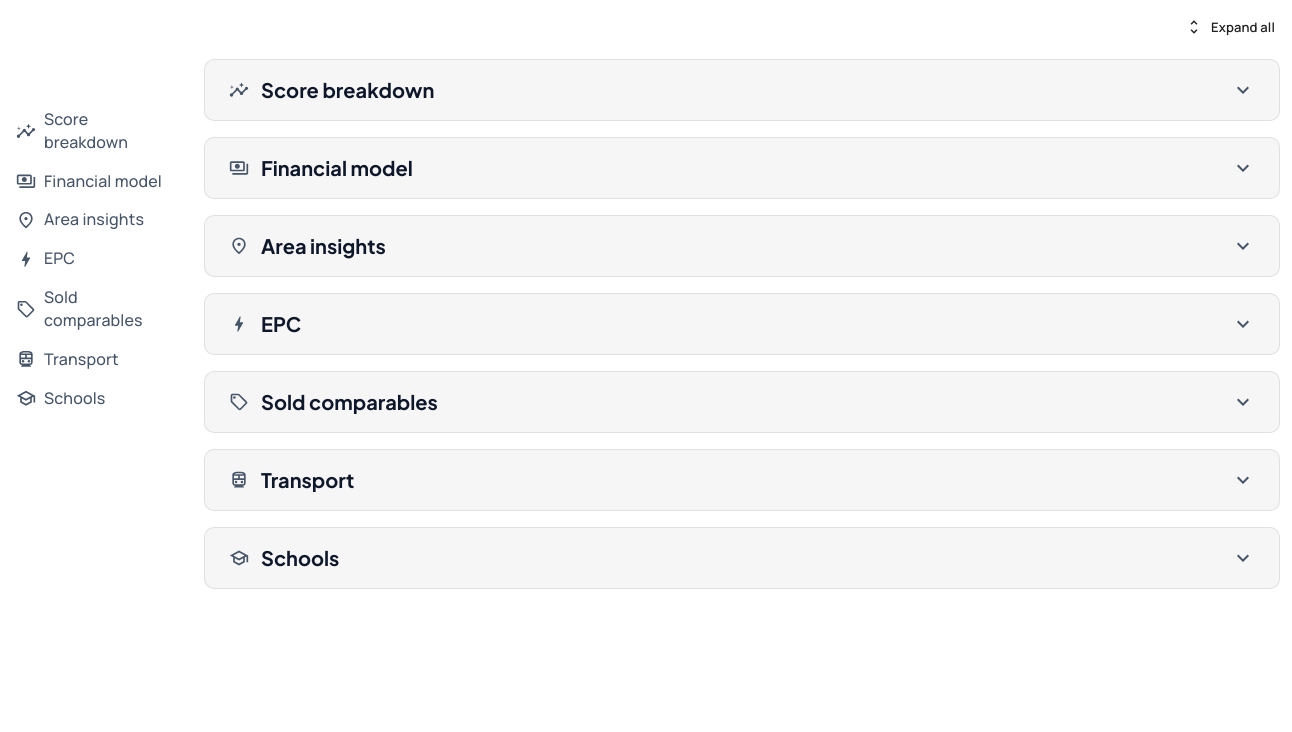
Test: DealReport › shows a muted placeholder when an always-run check returned nothing
Click the button "Transport" at (308, 479), box left=205, top=450, right=1279, bottom=510
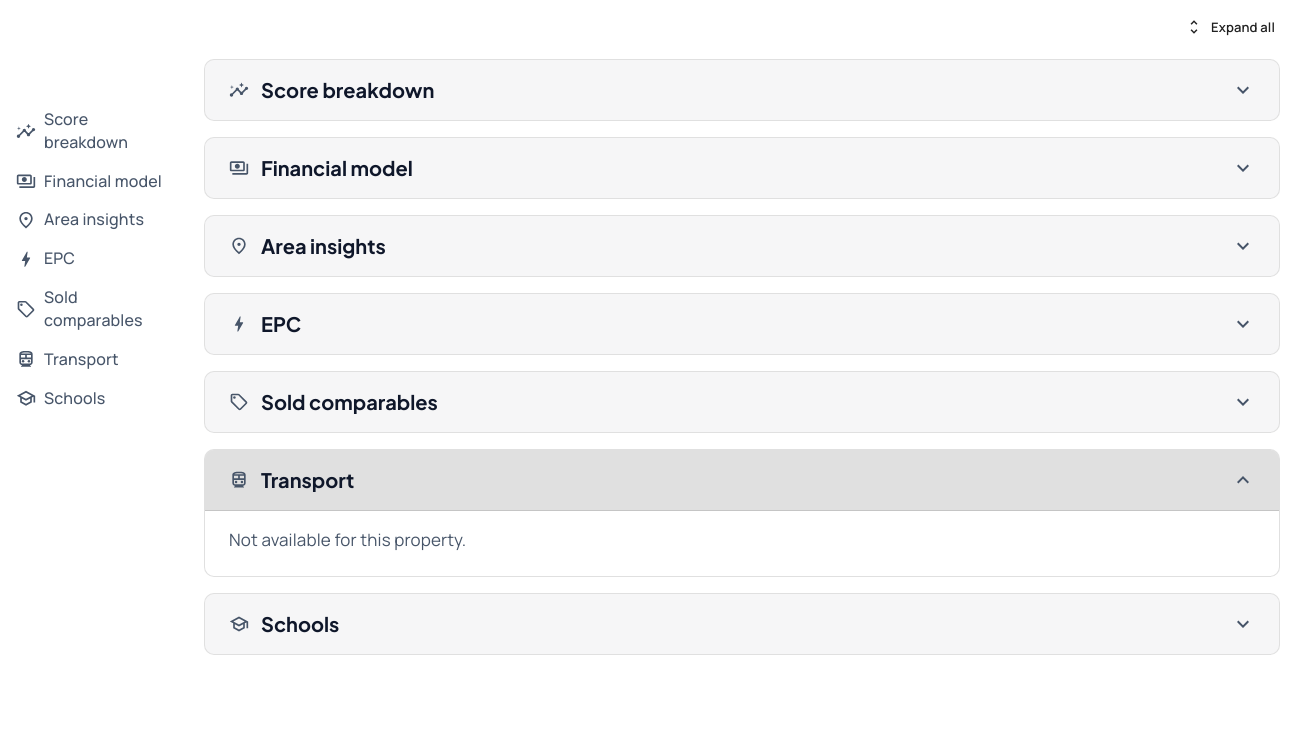
Result: the text "Not available for this property." is shown at left=229, top=528, right=466, bottom=551
